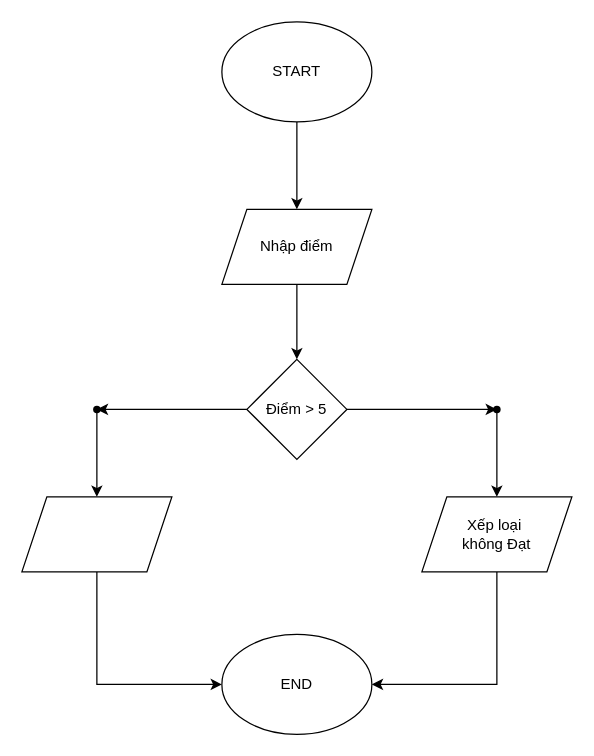
Image size: 594x756. Some labels were removed from this diagram. The centre of each missing label's shape, as x and y in pixels:
"Sai" belongs at point (496, 409).
"Xếp loại Đạt" belongs at point (96, 534).
"Đúng" belongs at point (96, 409).
